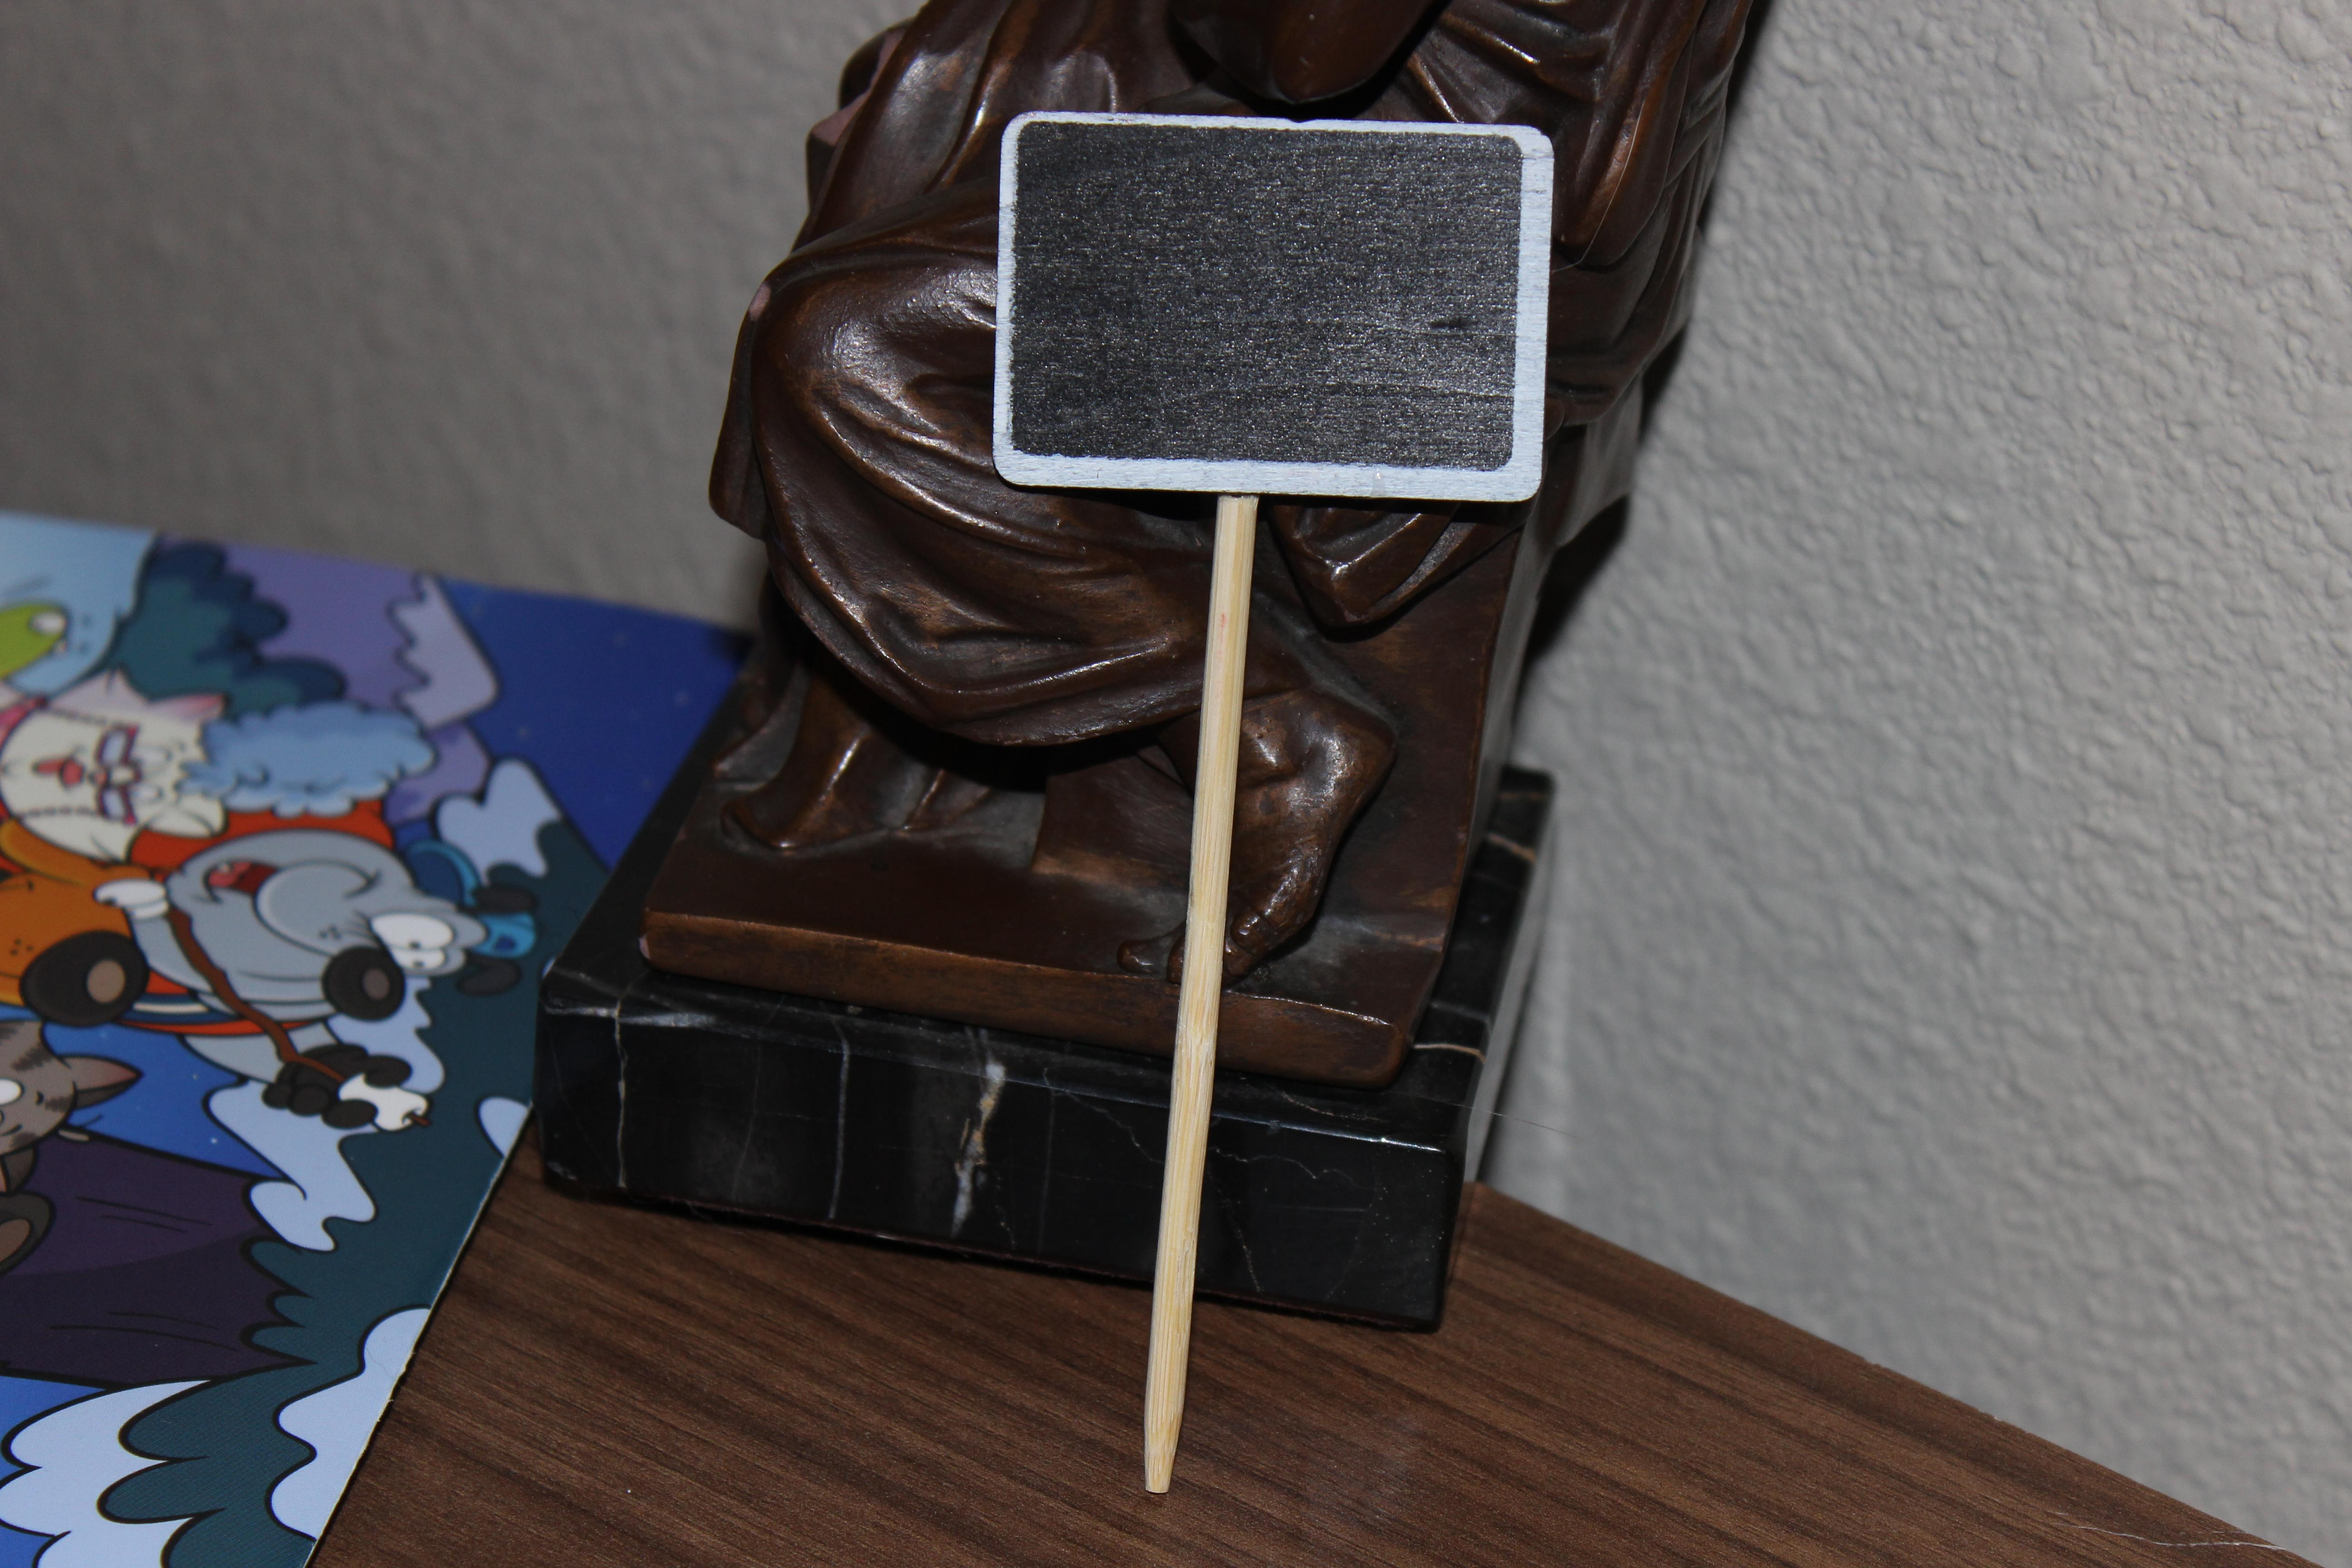sign: (954, 75, 1598, 1521)
